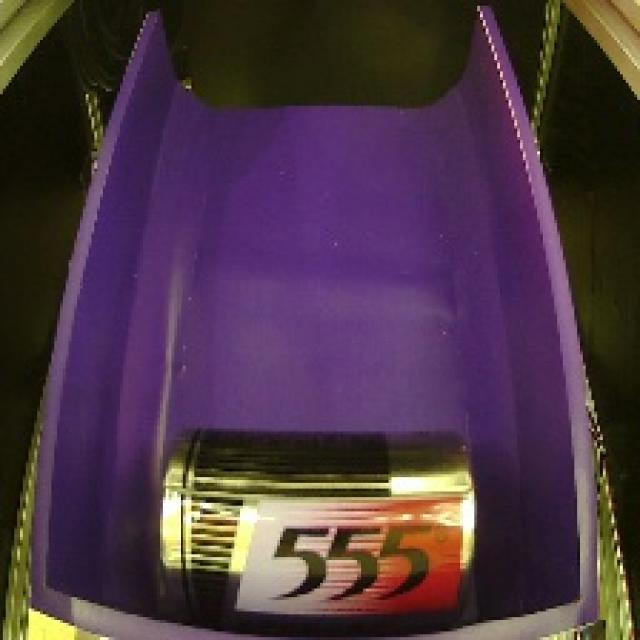battery: (134, 417, 492, 639)
